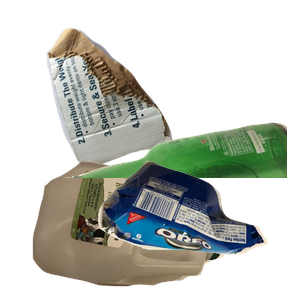cardboard: (44, 26, 209, 186)
glass: (60, 120, 300, 300)
plastic: (30, 159, 247, 300)
trash: (95, 158, 300, 300)
